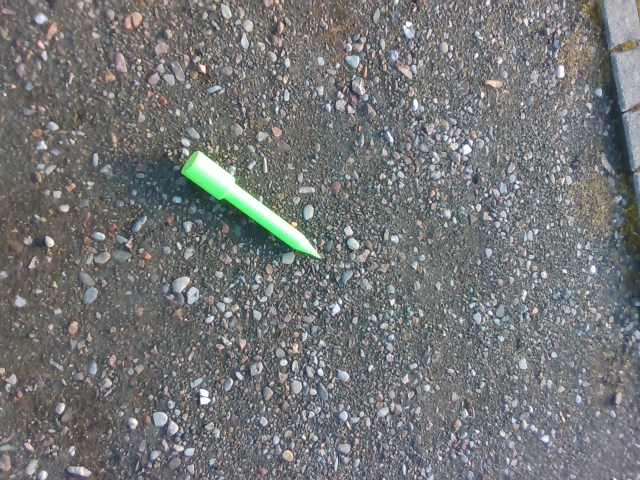Probe: (176, 147, 329, 261)
